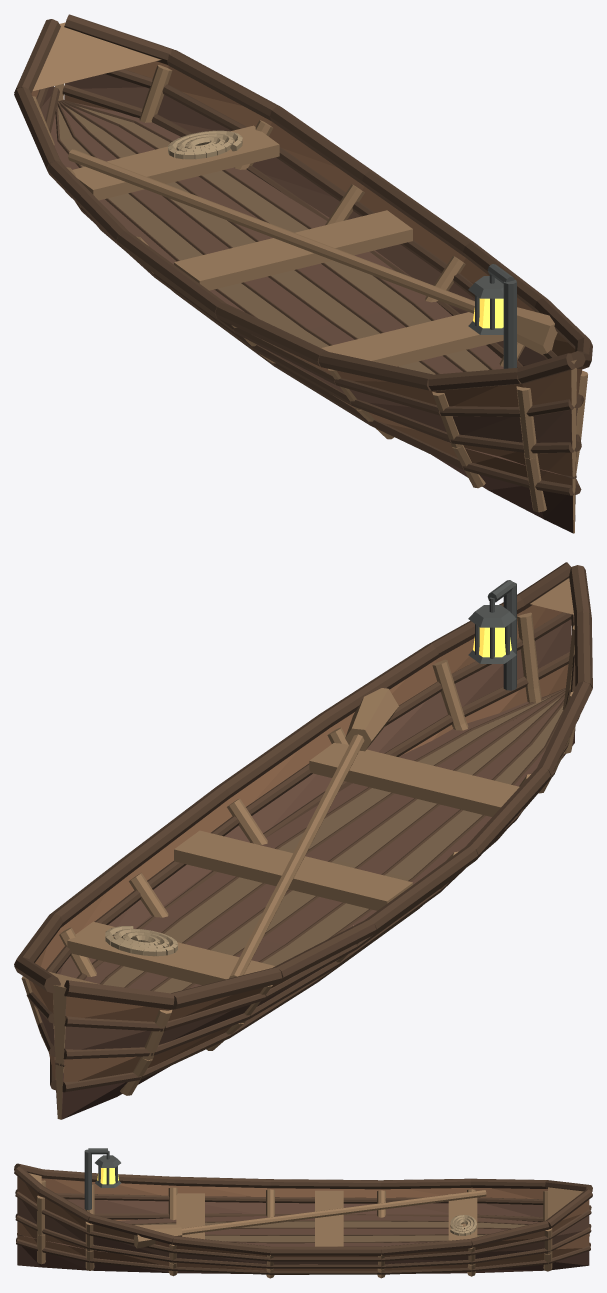
Rendered from sluice-skiff.glb.
The picture shows the model from 3 angles, top to bottom: view 1: azimuth 30°, elevation 25°; view 2: azimuth 150°, elevation 25°; view 3: azimuth 270°, elevation 25°; orthographic projection. The views are drawn at different scales.
Parts seen in each view (by area): view 1: Sluice lantern skiff; view 2: Sluice lantern skiff; view 3: Sluice lantern skiff.
Boxes of the visible parts, <box> form: Sluice lantern skiff: <box>14,14,592,533</box>; Sluice lantern skiff: <box>14,562,592,1119</box>; Sluice lantern skiff: <box>14,1148,592,1278</box>.
Bounding box in the file's own units: 4.88 × 3.71 × 16.69.
